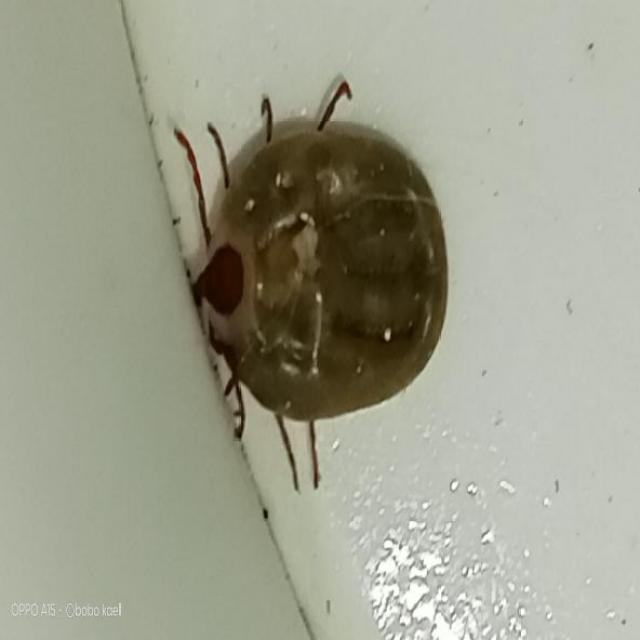Rhipicephalus Sanguineus-F-Fed: (166, 75, 448, 495)
